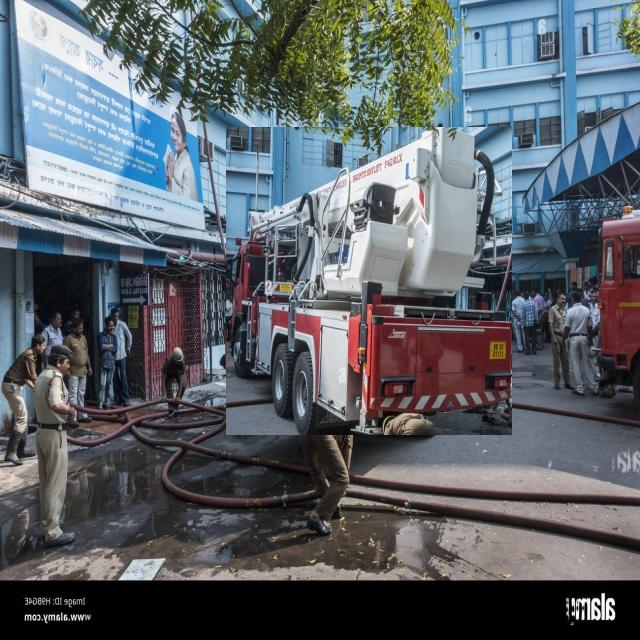emergency: (226, 128, 511, 435)
